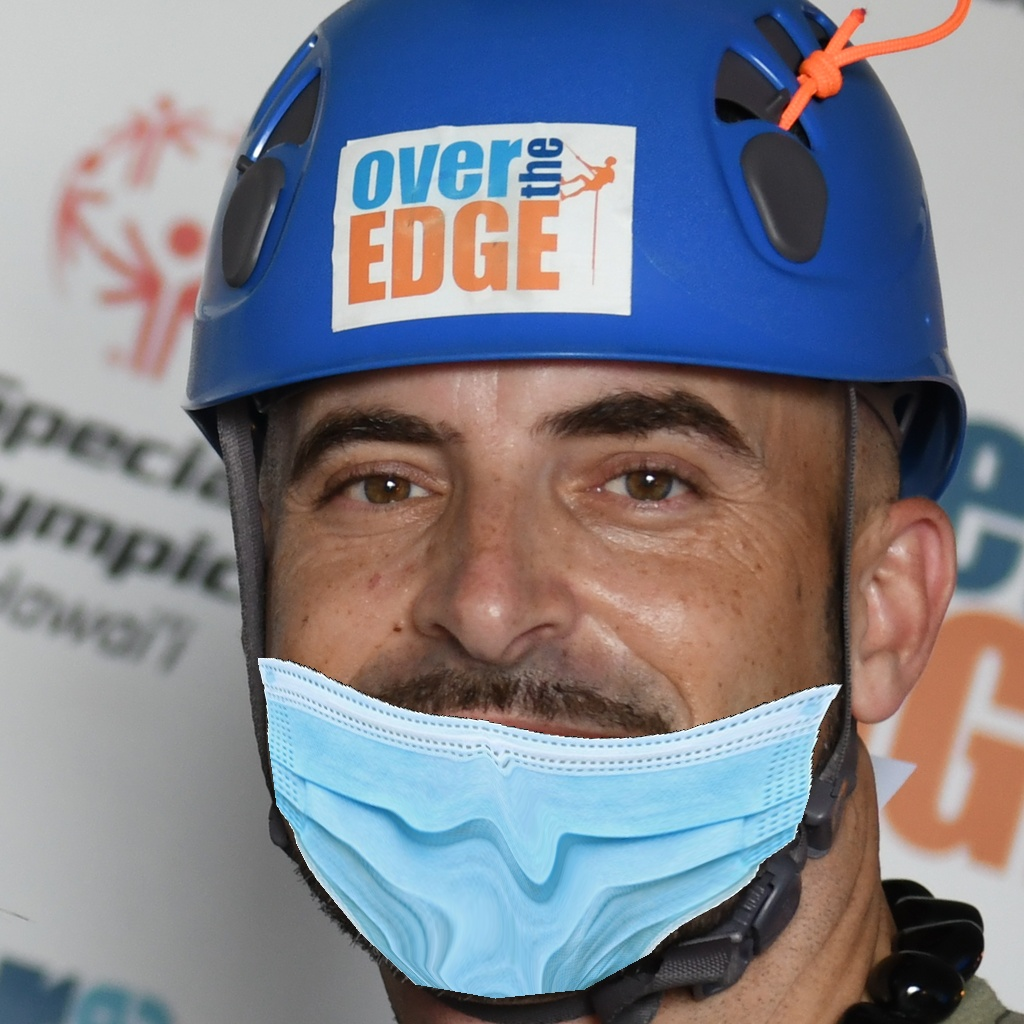mascarilla_mal_puesta: (154, 383, 897, 990)
